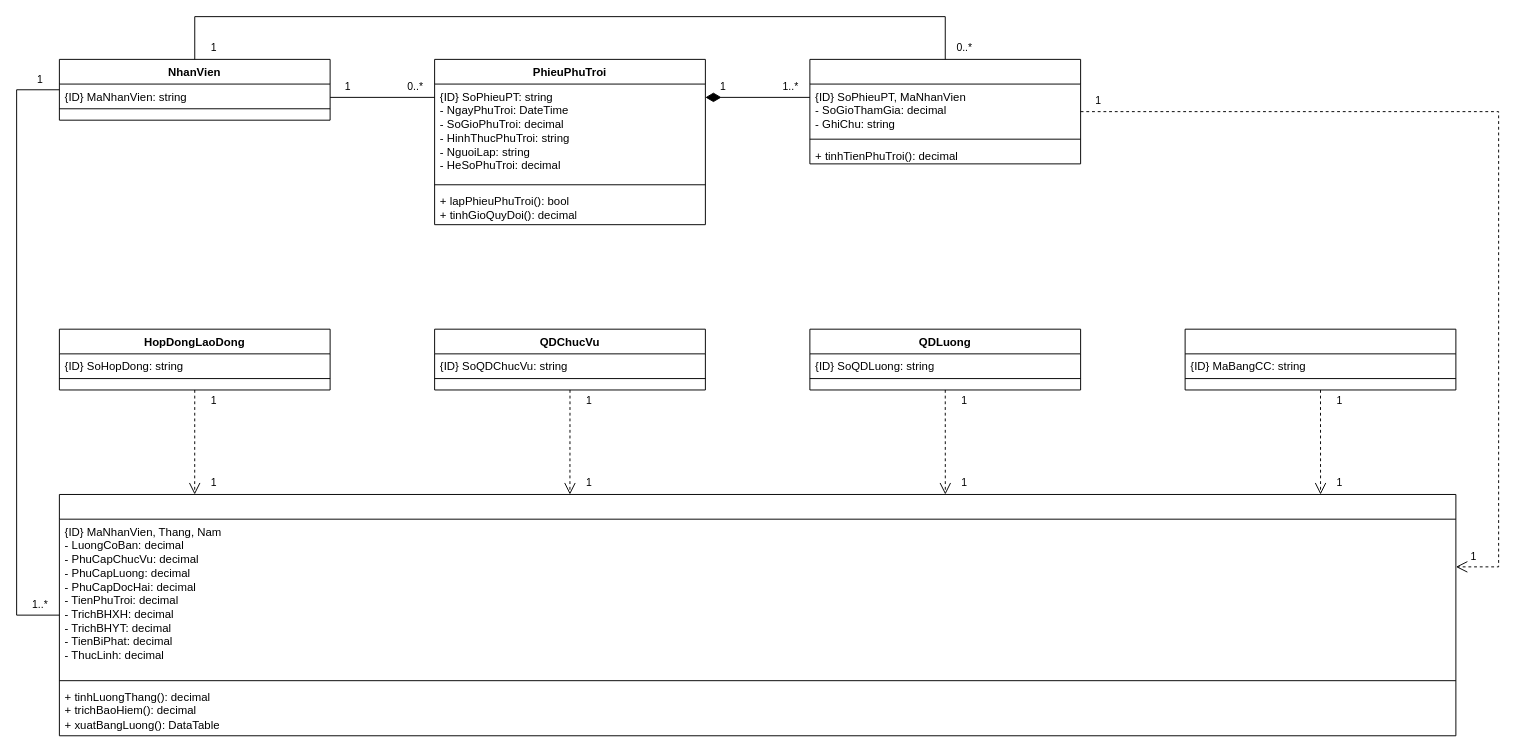
Image size: 1527x755. Some labels were removed from this diagram. Here are the shapes that lost their labels. From the top down, the box of each, then its label:
(809, 58, 1081, 164): ChiTietPhuTroi
(1184, 328, 1456, 390): BangChamCong
(58, 494, 1456, 736): BangLuongThang
